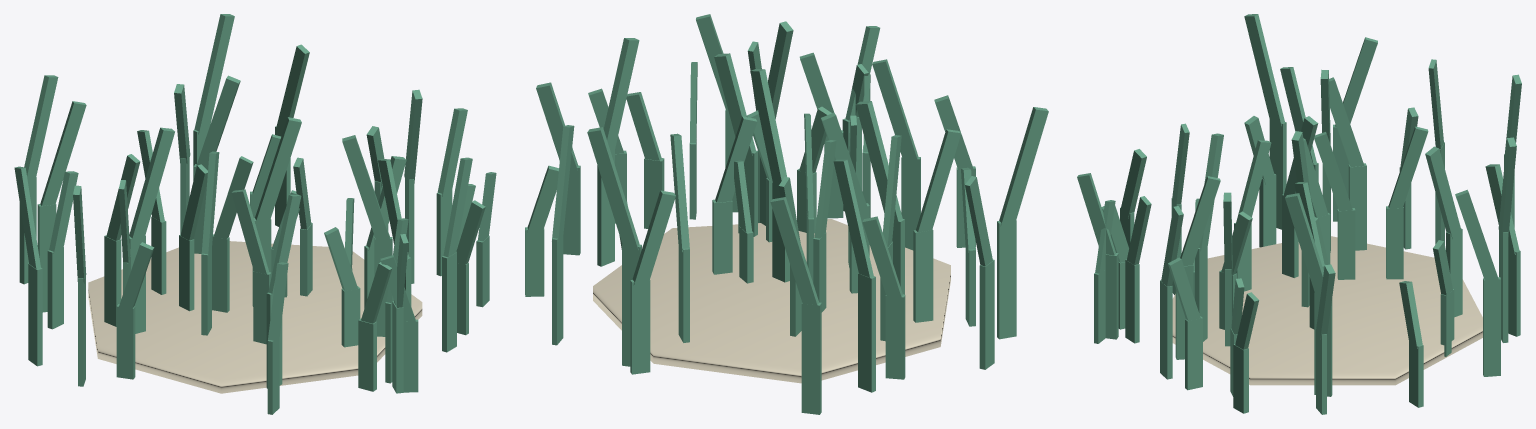
The model's file is sunken-city-and-underwater-ruins-sea-grass-patch-9bc635f4__36992.glb.
The picture shows the model from 3 angles, left to right: view 1: azimuth 30°, elevation 25°; view 2: azimuth 150°, elevation 25°; view 3: azimuth 270°, elevation 25°; orthographic projection. The views are drawn at different scales.
Parts seen in each view (by area): view 1: sea-grass-patch; view 2: sea-grass-patch; view 3: sea-grass-patch.
Boxes of the visible parts, left/top/right/bottom form: sea-grass-patch: left=14, top=14, right=496, bottom=414; sea-grass-patch: left=525, top=14, right=1048, bottom=414; sea-grass-patch: left=1077, top=14, right=1521, bottom=414.
Bounding box in the file's own units: 2 × 0.9923 × 1.8.
